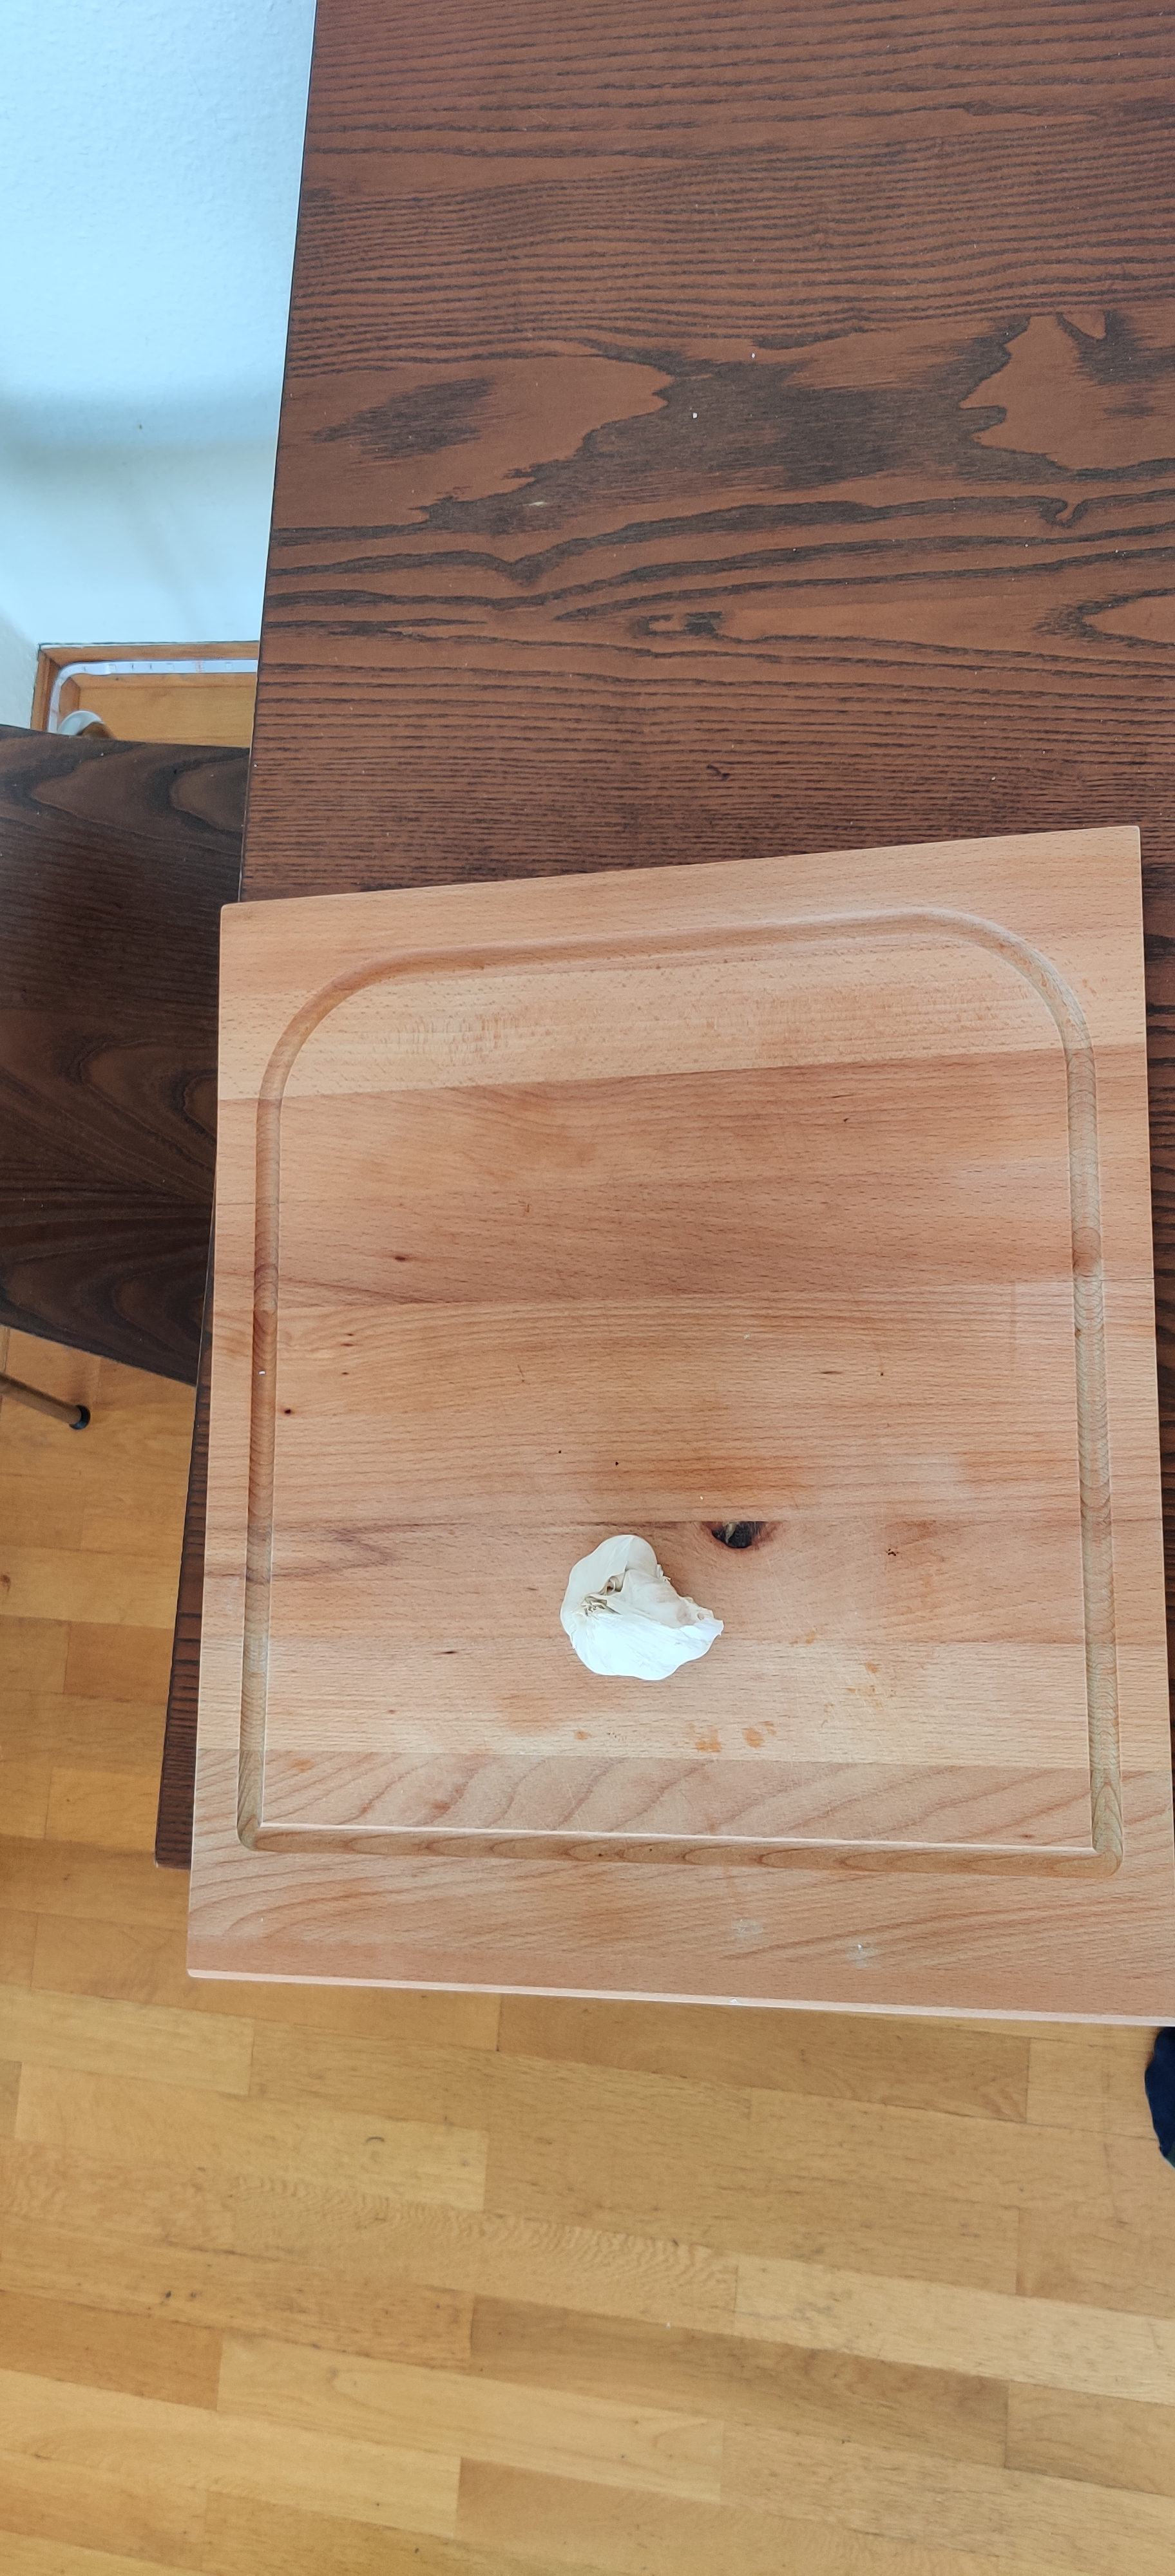Knoblauch: (559, 1533, 723, 1677)
